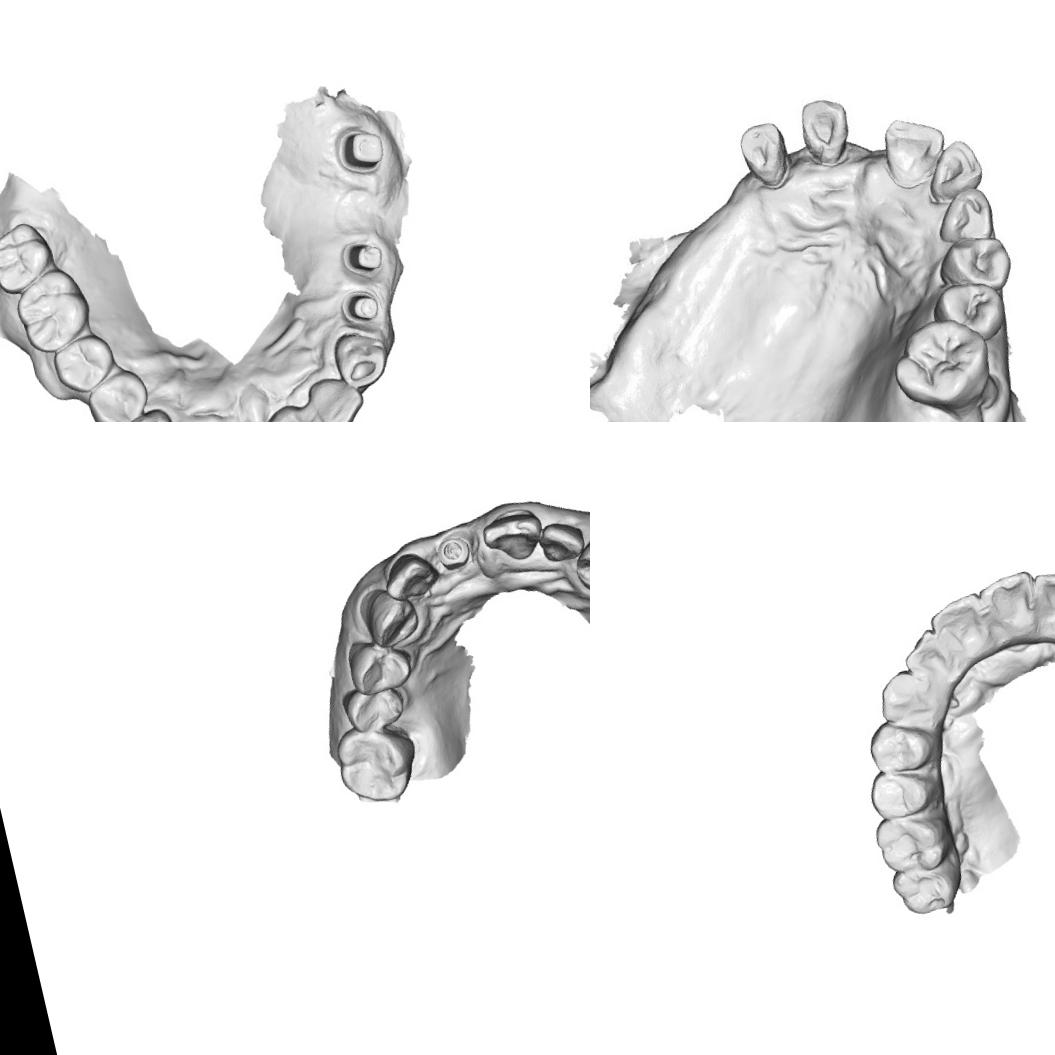abutment: (330, 121, 391, 180), (336, 236, 388, 282), (338, 286, 383, 330)
canine: (734, 115, 808, 204), (868, 662, 941, 735), (358, 583, 428, 652), (328, 324, 396, 393), (936, 187, 996, 241), (566, 527, 590, 599), (117, 405, 181, 422)
implant: (432, 530, 476, 576)
incisor: (974, 564, 1050, 652), (880, 112, 960, 194), (924, 589, 998, 672), (893, 622, 967, 696), (475, 502, 550, 570), (923, 138, 991, 202), (796, 94, 854, 162), (376, 546, 439, 606), (308, 371, 370, 422), (534, 514, 588, 571), (1029, 564, 1055, 644), (262, 395, 337, 422)
molar: (886, 311, 994, 417), (329, 714, 428, 814), (866, 800, 967, 886), (9, 262, 98, 358), (888, 856, 973, 923), (0, 217, 60, 298)
premolar: (933, 271, 1013, 345), (862, 710, 944, 782), (340, 630, 418, 701), (938, 230, 1016, 300), (864, 760, 942, 825), (48, 330, 121, 399), (338, 674, 412, 739), (82, 367, 155, 422)
